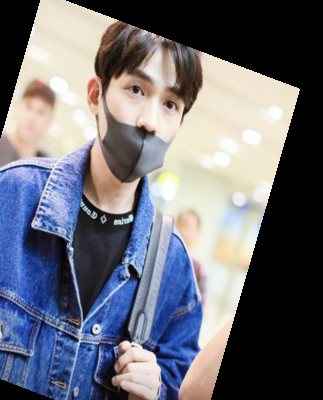mask_weared_incorrect: (83, 17, 209, 197)
